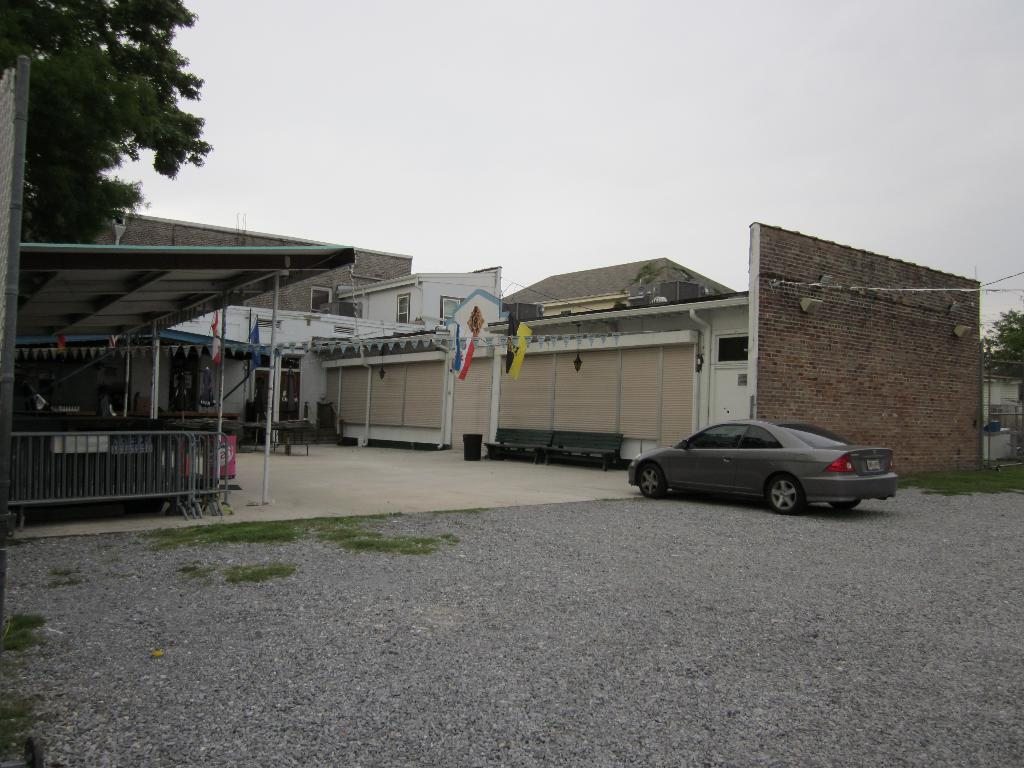Car: (621, 414, 898, 517)
